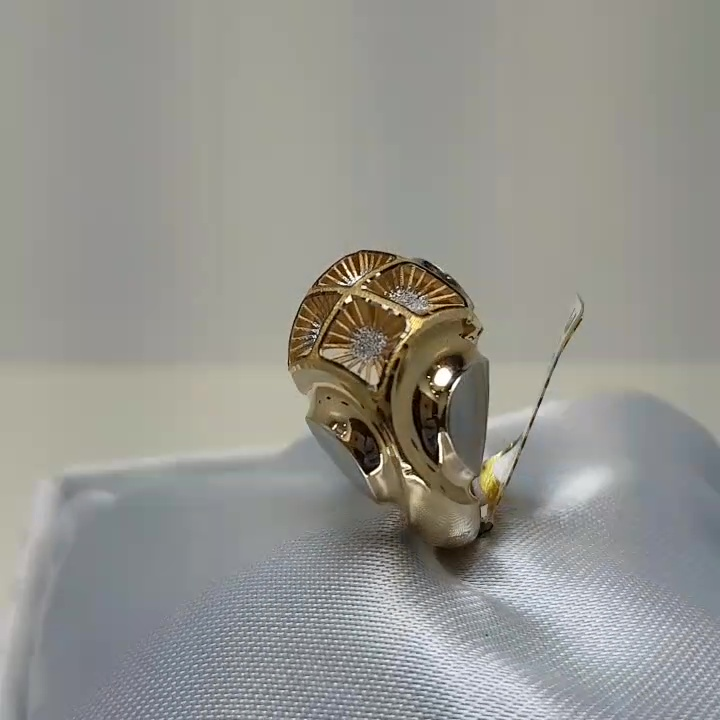Ring 2: (272, 229, 524, 565)
